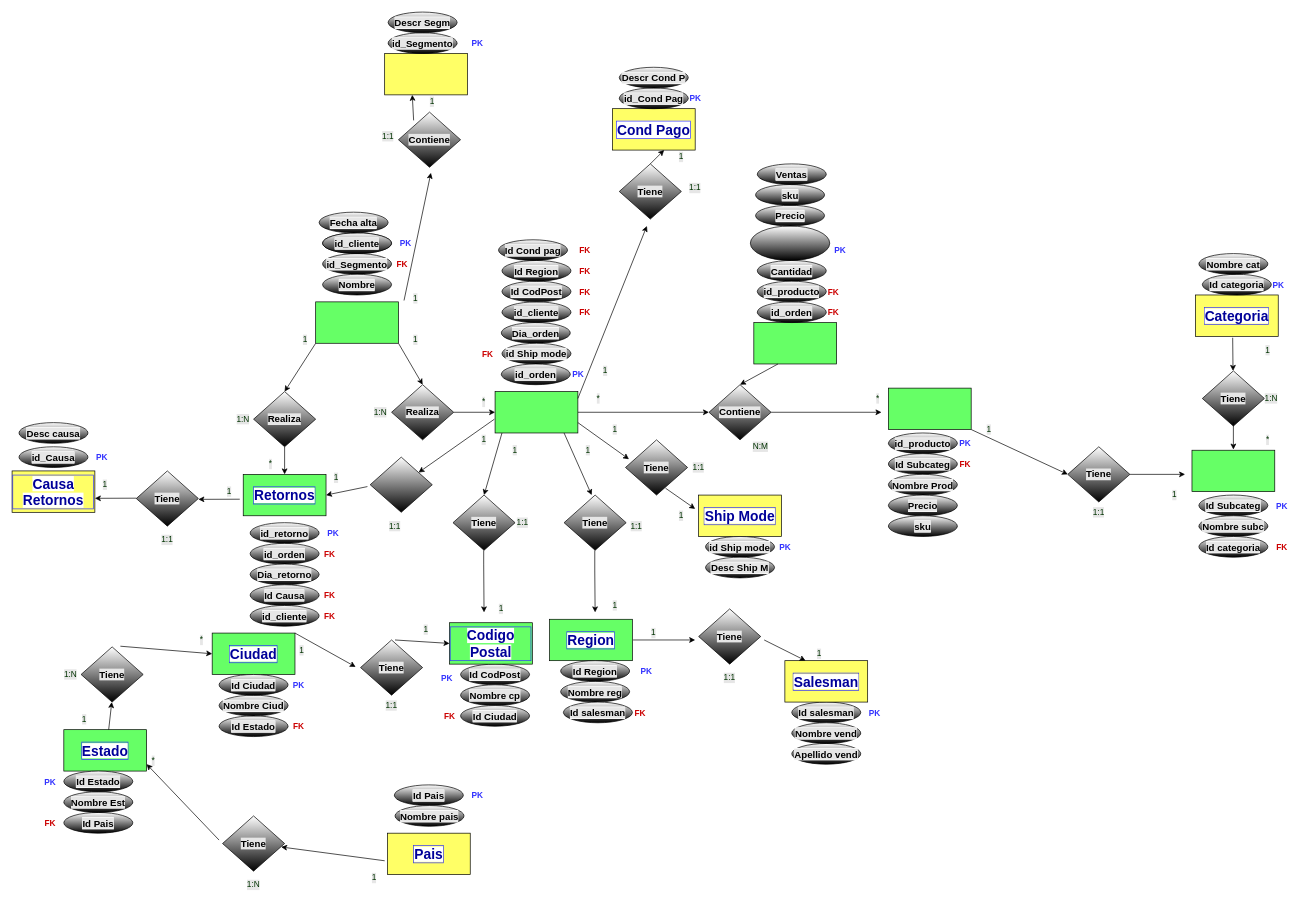
Image size: 1308x907. Some labels were removed from this diagram. The box of each missing label's shape, as (x1, y1, x2, y2) in pixels:
Cliente: (315, 301, 398, 343)
Generan: (369, 456, 432, 512)
Id Vta ord / prod: (750, 225, 830, 260)
Ordenes: (494, 391, 578, 433)
Ordenes - Producto: (753, 322, 837, 364)
Productos: (888, 387, 971, 430)
Segmento: (384, 53, 467, 95)
Subcateg: (1191, 450, 1275, 492)
